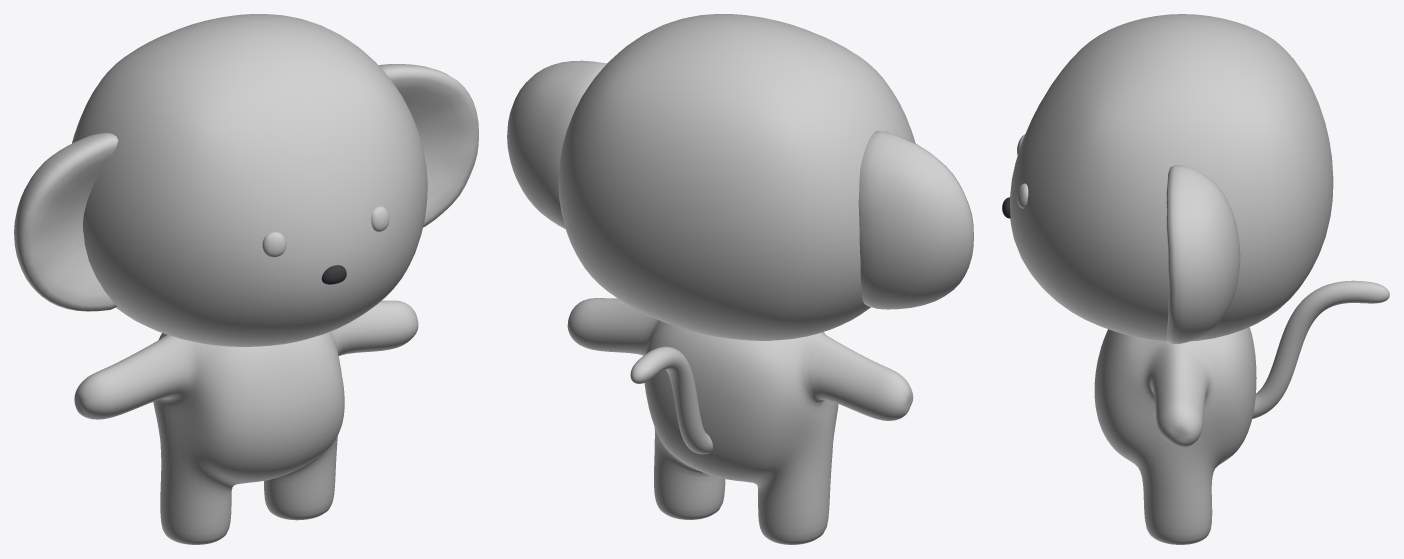
Rendered from monkey.fbx.
3 renders of one model, left to right at view 1: azimuth 30°, elevation 25°; view 2: azimuth 150°, elevation 25°; view 3: azimuth 270°, elevation 25°, orthographic. The views are drawn at different scales.
Visible parts, largest first — view 1: Cube, body, ears, eyes; view 2: Cube, body, ears, tail; view 3: Cube, body, ears, tail.
Boxes of the visible parts, x1,y1,x2,y2 form: Cube: [72, 14, 427, 346]; body: [74, 300, 418, 544]; ears: [14, 64, 478, 311]; eyes: [262, 206, 389, 257]; Cube: [558, 14, 915, 340]; body: [567, 298, 913, 544]; ears: [507, 60, 973, 309]; tail: [630, 346, 712, 454]; Cube: [1010, 14, 1333, 341]; body: [1094, 327, 1256, 544]; ears: [1166, 165, 1240, 343]; tail: [1252, 280, 1389, 418].
Size of the model in its own units: 290 by 295 by 218.
